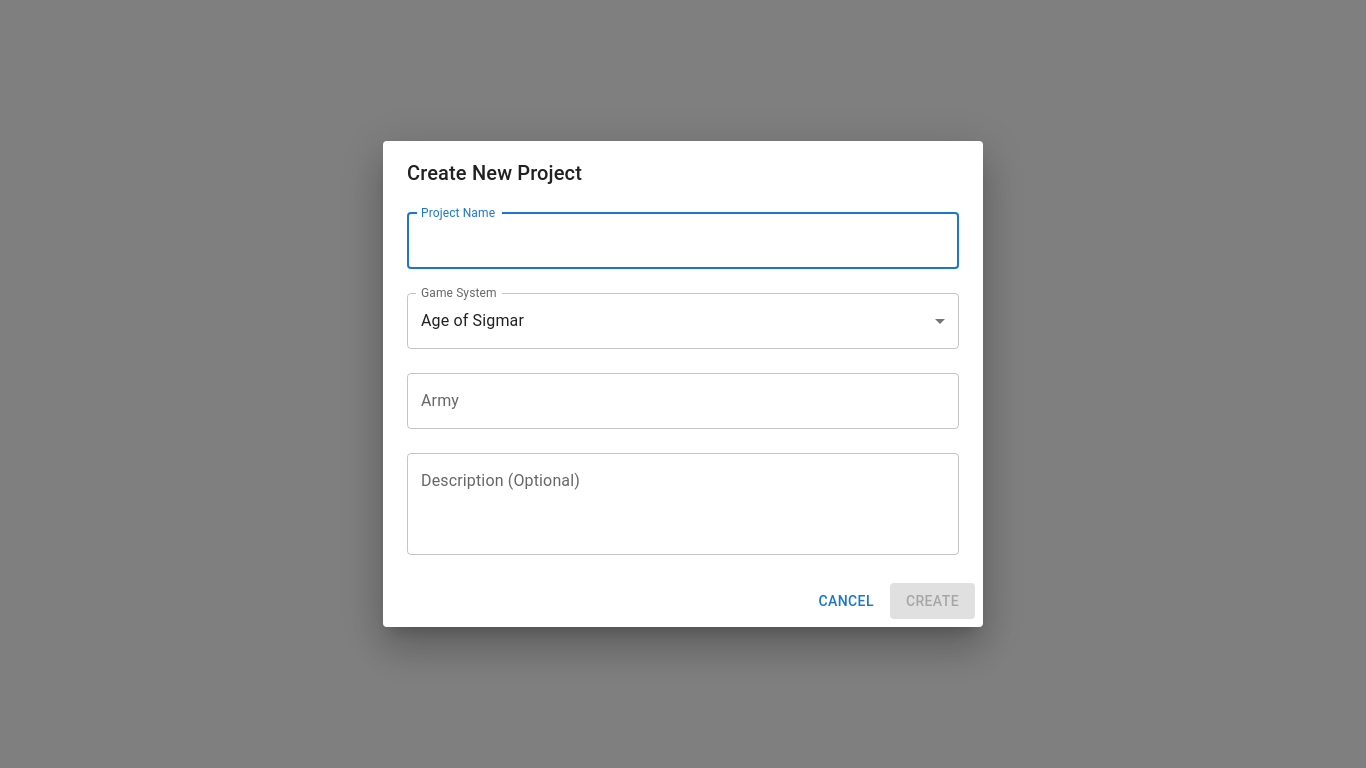
Test: ProjectForm › validates required fields
# Clear the name field to trigger validation
Type "a" into the field labelled "Project Name" at point(683, 241), box x1=407 y1=213 x2=959 y2=269
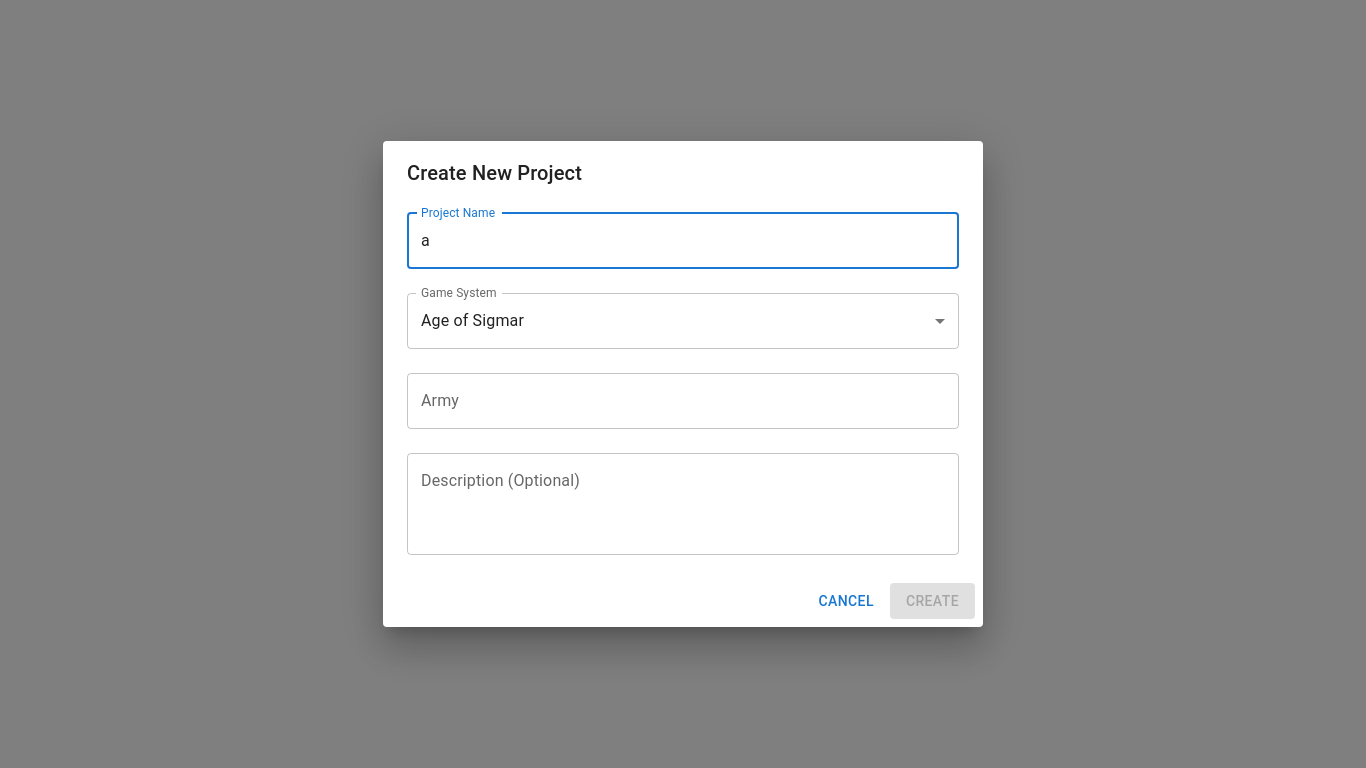
Clear the field labelled "Project Name" at point(683, 241), box x1=407 y1=213 x2=959 y2=269
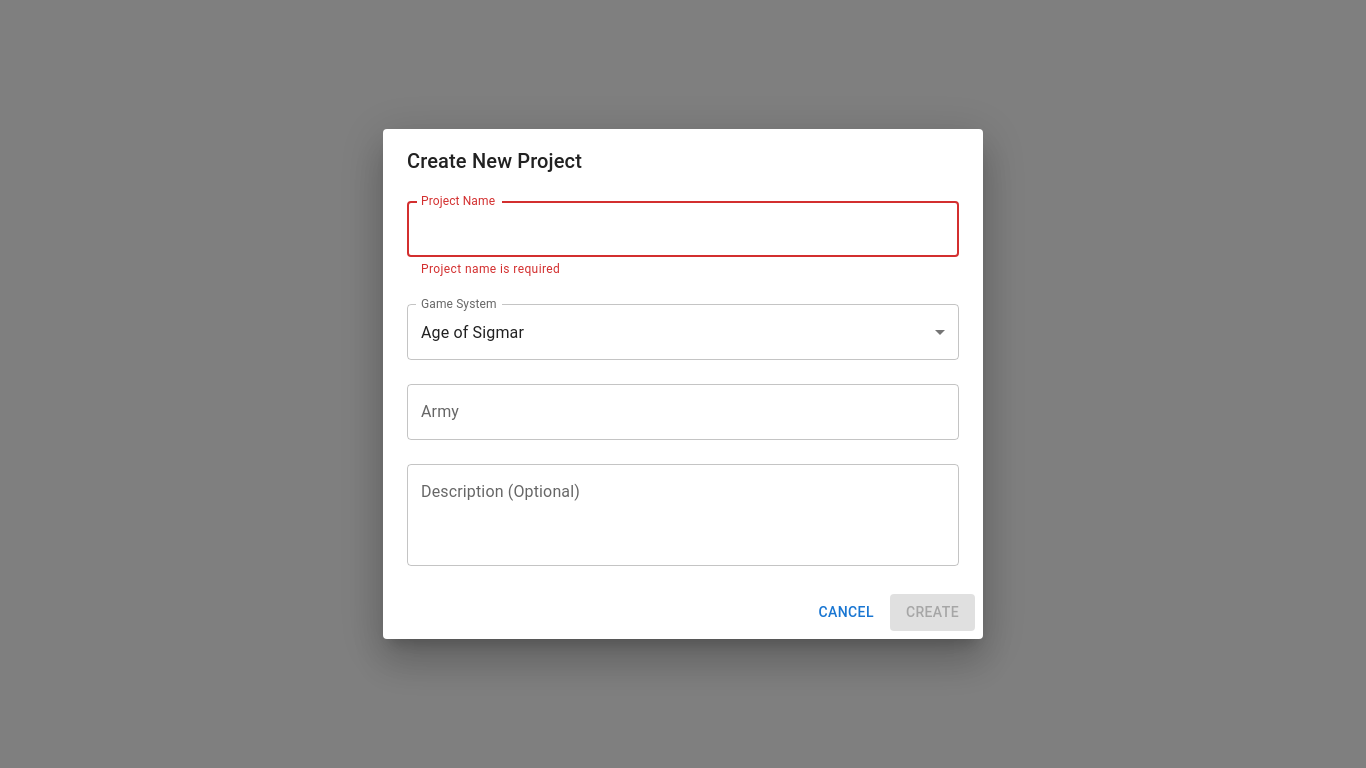
Check: the text "Project name is required" is shown, box x1=421 y1=262 x2=560 y2=276
